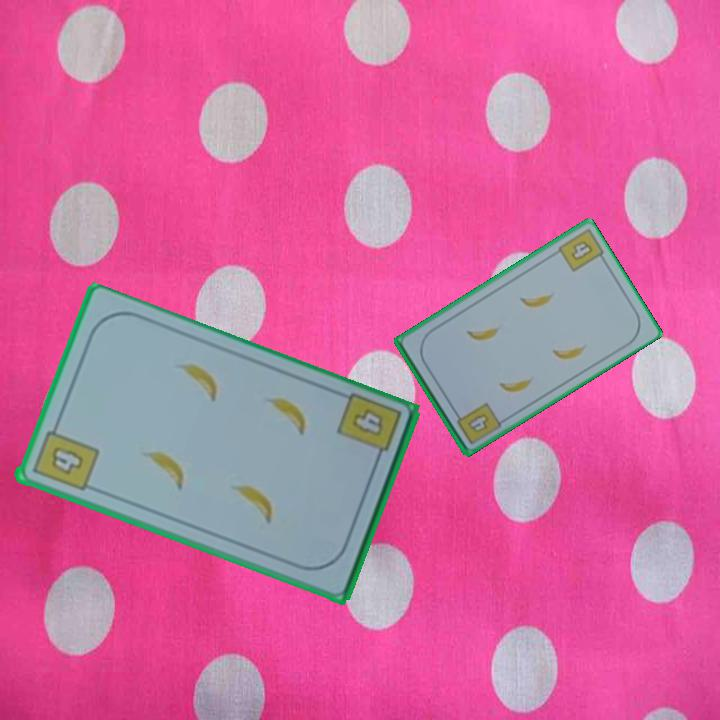4b: (333, 389, 404, 468), (28, 418, 101, 494), (450, 399, 502, 447), (568, 237, 596, 263)
